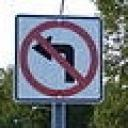NoVirarEsquerda: (18, 17, 104, 100)
